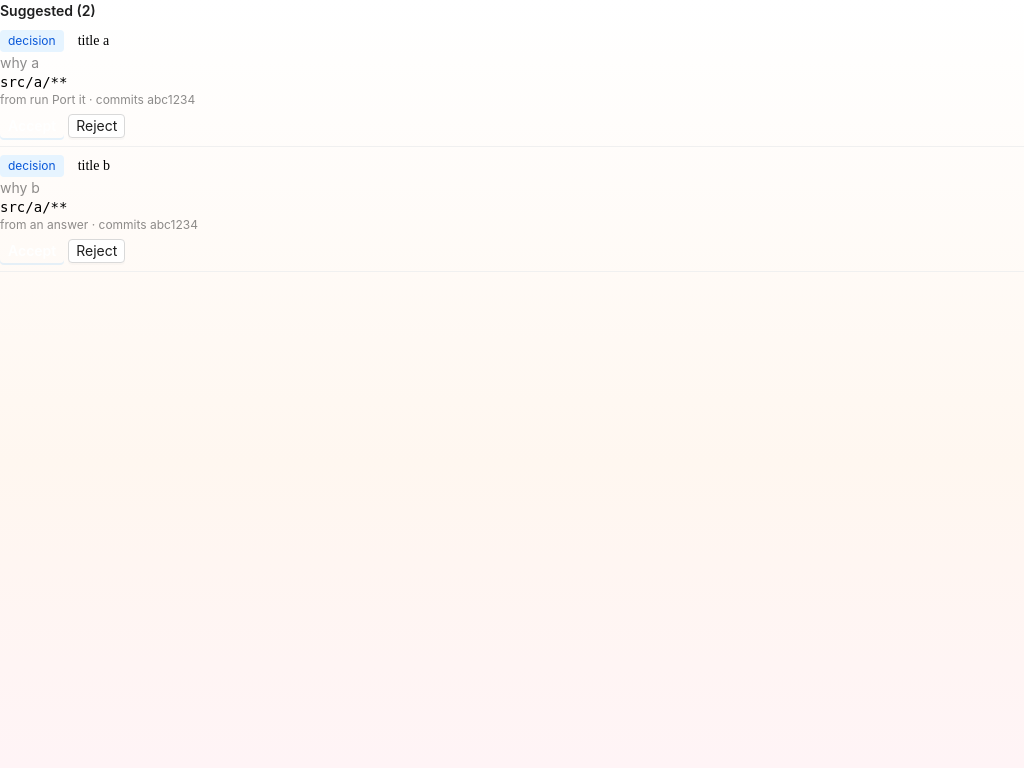
Scenario: ProposalsQueue › a 409 on accept shows the message, closes the form and reloads
Click the button "Accept" below "from run Port it": (32, 126) [0,114,64,138]
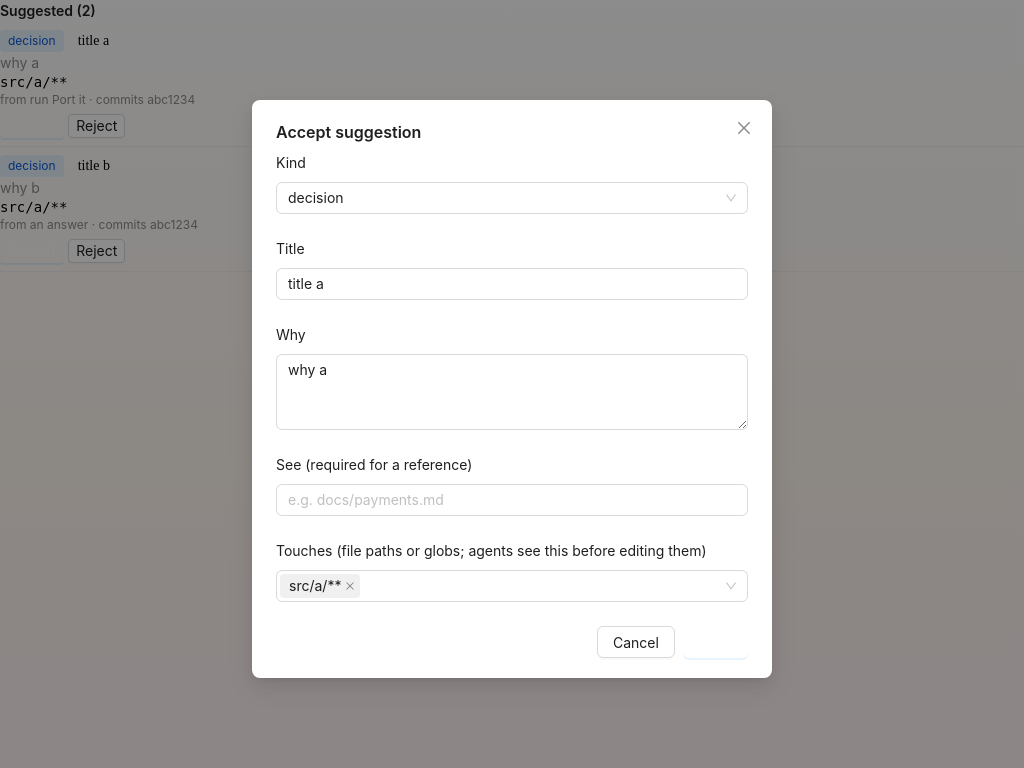
Click the button "Save": (715, 642) [683,626,748,658]
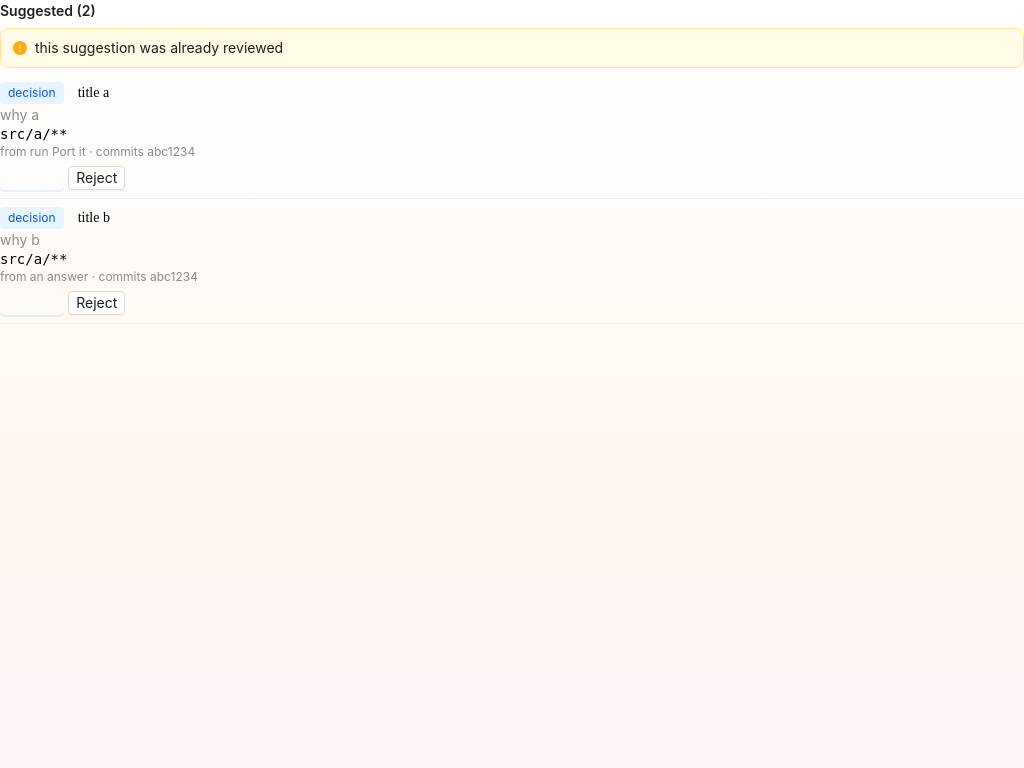
Expected: the message "this suggestion was already reviewed" is shown, [0,28,1023,68]
